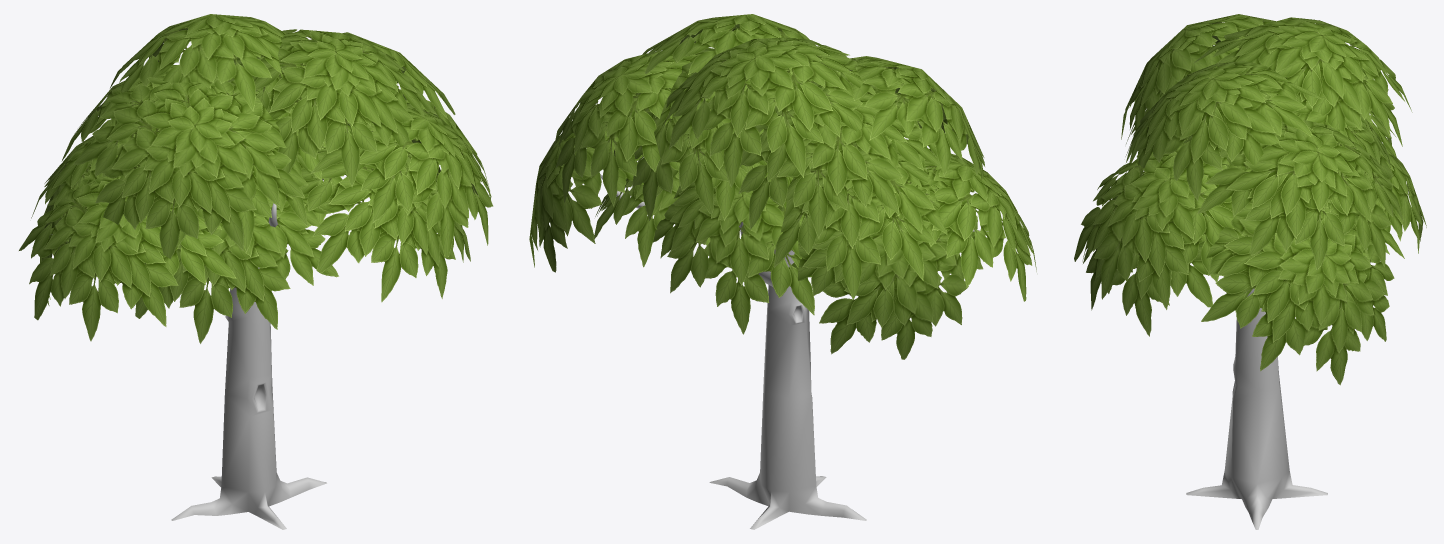
File: Environment_Mesh_Tree5.FBX
3 views of the same model, side by side, from view 1: azimuth 30°, elevation 25°; view 2: azimuth 150°, elevation 25°; view 3: azimuth 270°, elevation 25° (orthographic). The views are drawn at different scales.
Visible parts, largest first — view 1: Tree5; view 2: Tree5; view 3: Tree5.
Part boxes in pixels (bbox=[...]): Tree5: bbox=[19, 14, 493, 529]; Tree5: bbox=[529, 14, 1036, 529]; Tree5: bbox=[1074, 14, 1426, 529].
Size of the model in its own units: 1671 by 1628 by 1148.
